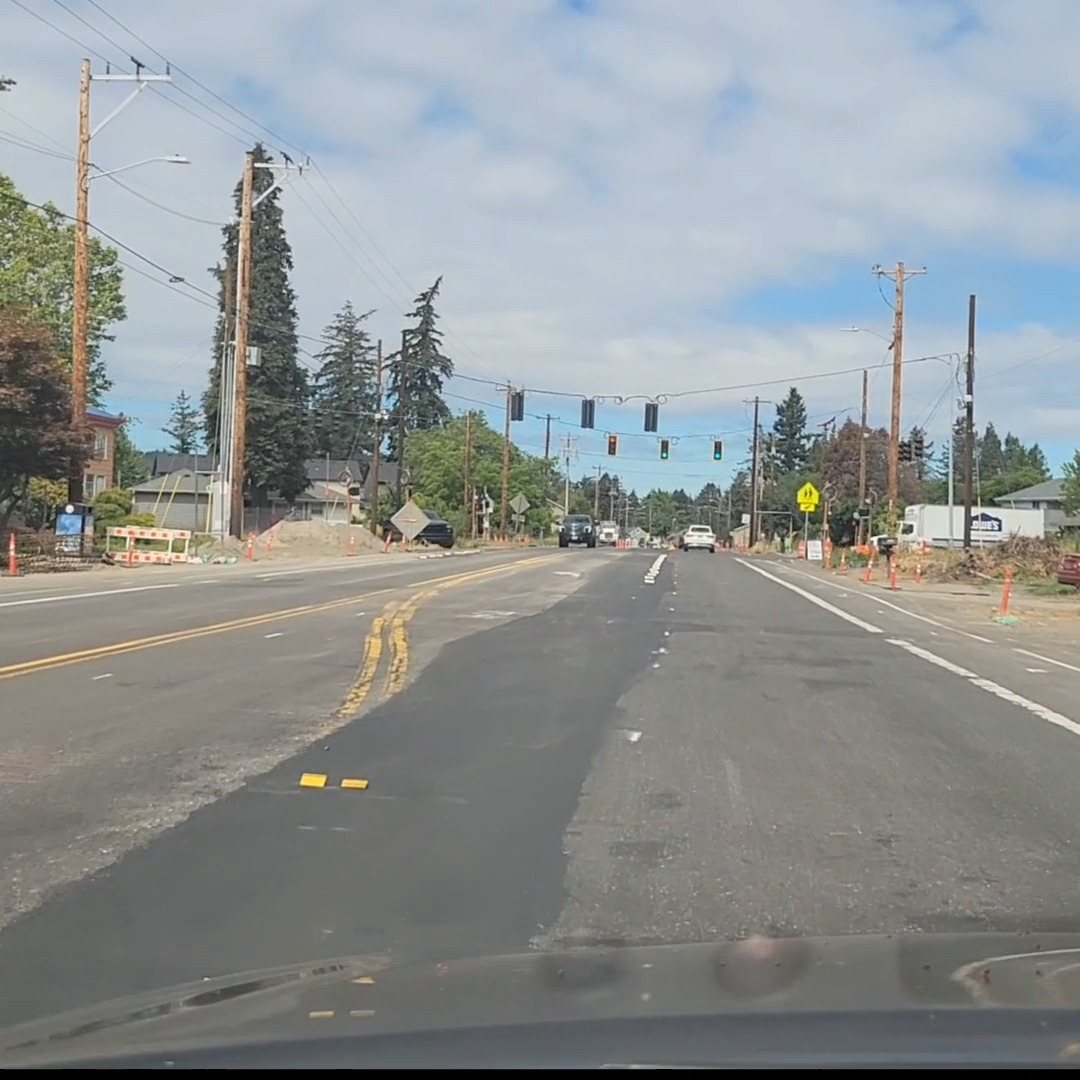car: (383, 510, 452, 547), (557, 514, 596, 546), (678, 524, 716, 551), (596, 520, 620, 546)
crosswalk-sign: (796, 481, 820, 512)
delineator: (997, 567, 1014, 616), (7, 535, 18, 576), (862, 551, 875, 582), (887, 559, 898, 589), (837, 547, 848, 574), (346, 533, 357, 556), (383, 530, 393, 552), (246, 533, 254, 560), (264, 530, 273, 554), (913, 561, 922, 583), (398, 534, 408, 552), (918, 537, 927, 553), (125, 550, 135, 563), (498, 531, 505, 542), (523, 533, 529, 545)
